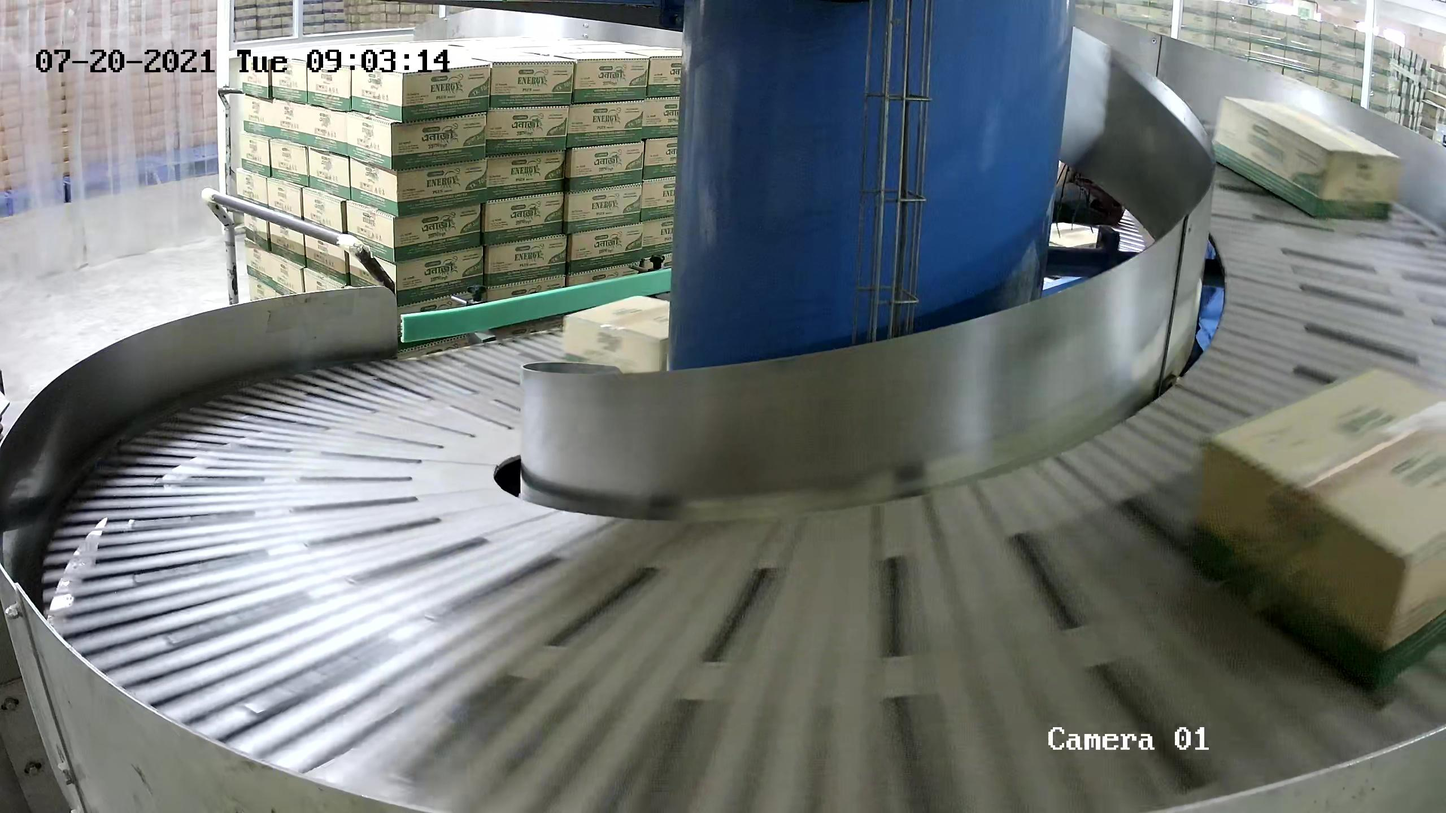Box: (1189, 361, 1446, 695), (1211, 94, 1402, 220), (562, 294, 670, 373)
